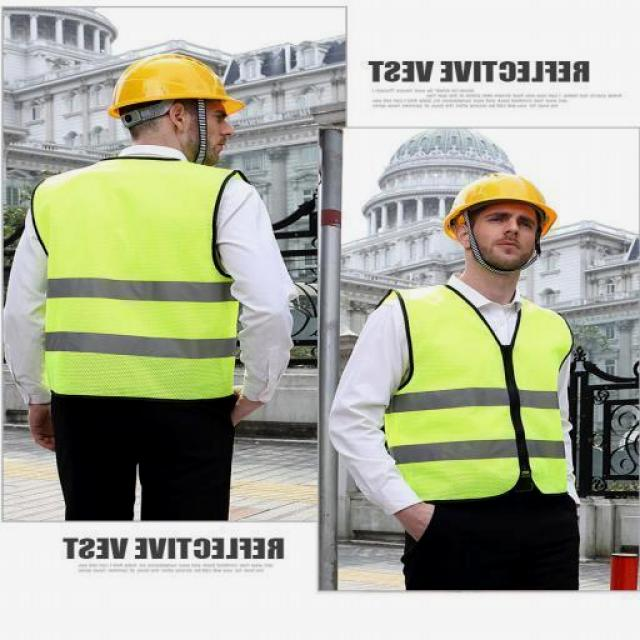face_nomask: (480, 208, 539, 264), (192, 106, 238, 162)
hand_noglove: (22, 398, 66, 453)
head_helmet: (104, 50, 248, 118), (440, 171, 560, 244)
person: (3, 39, 302, 518), (321, 156, 604, 592)
vest: (29, 156, 252, 402), (380, 284, 576, 503)
